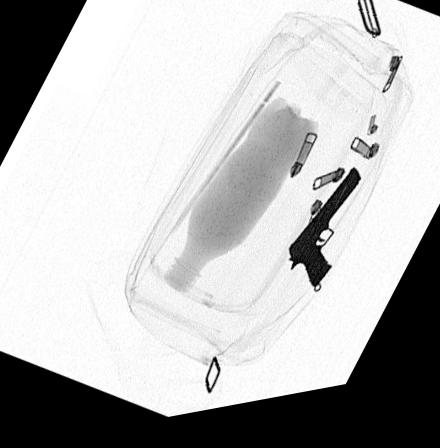Gun: (287, 180, 363, 300)
